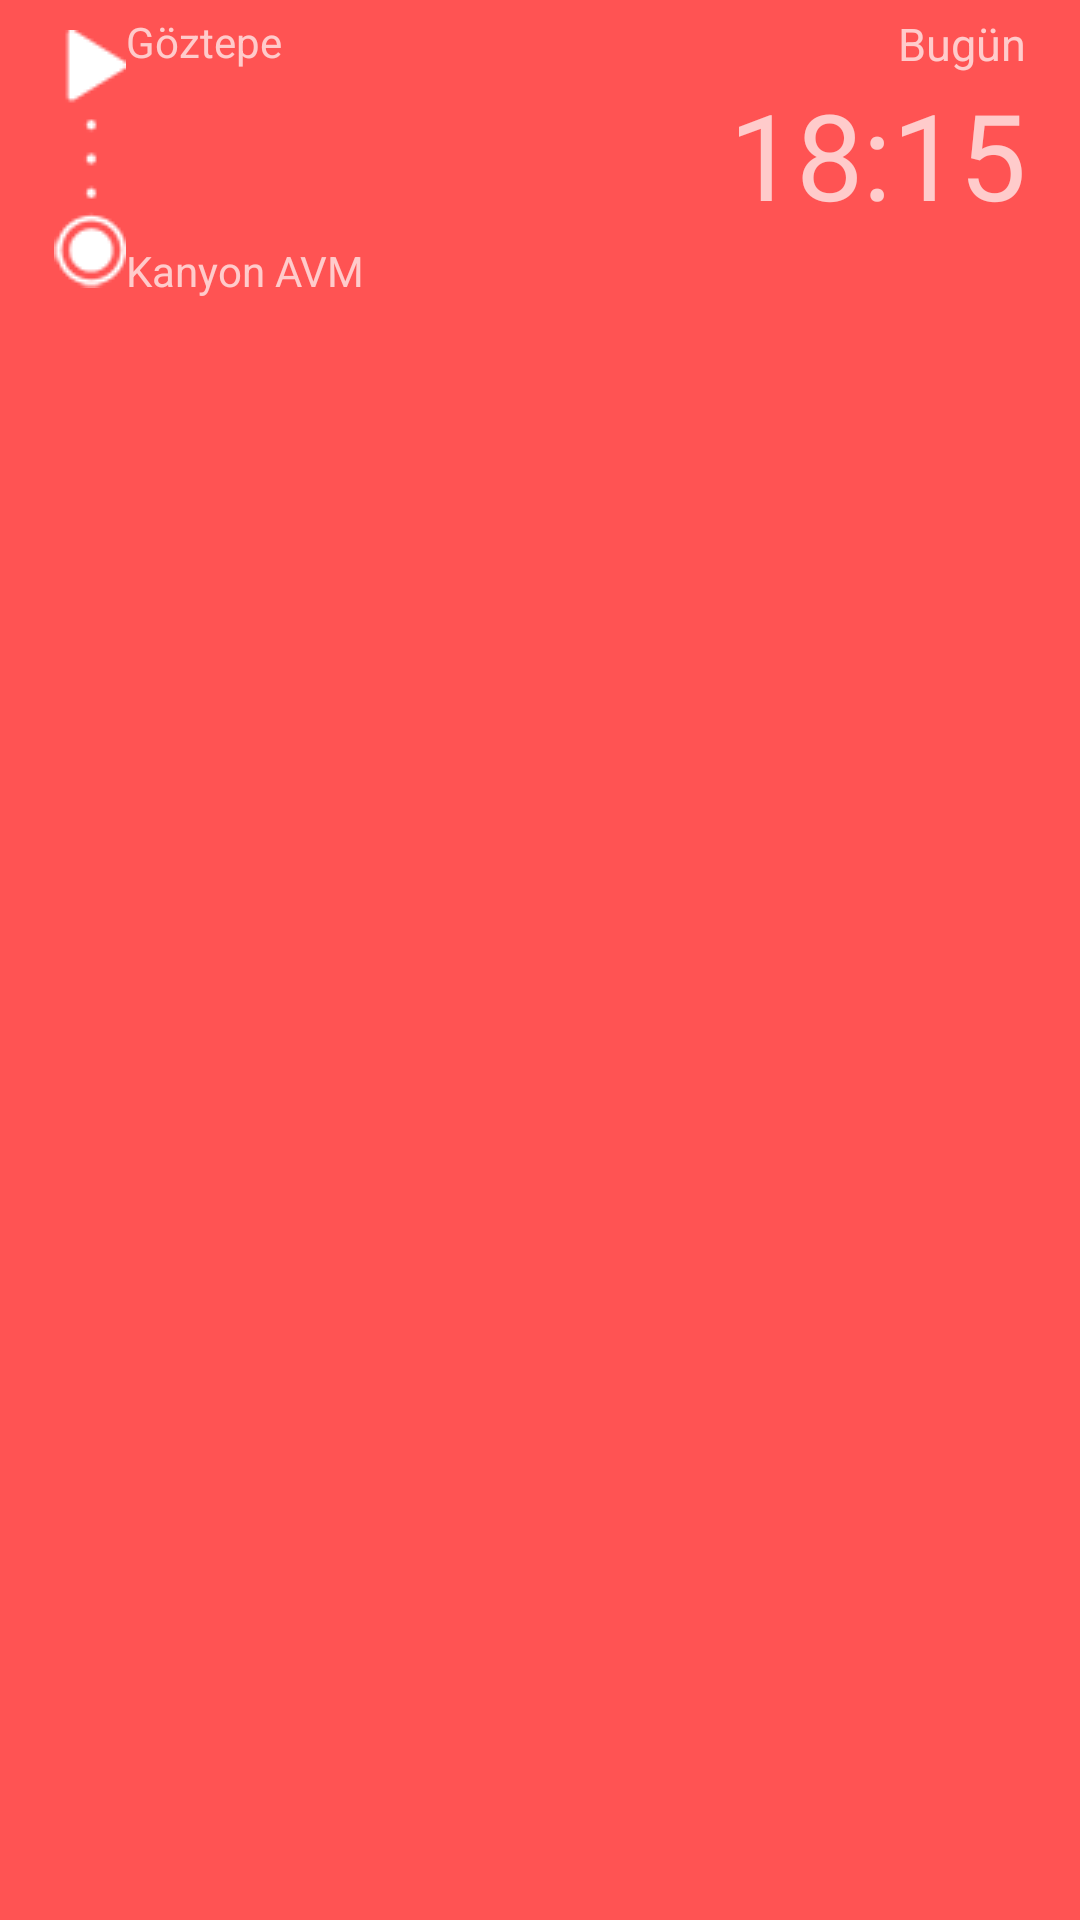

Icon click points for this 1080w x 1920h phone screenshot, format (x=x, y=y):
navigation wtow: (x=90, y=159)
